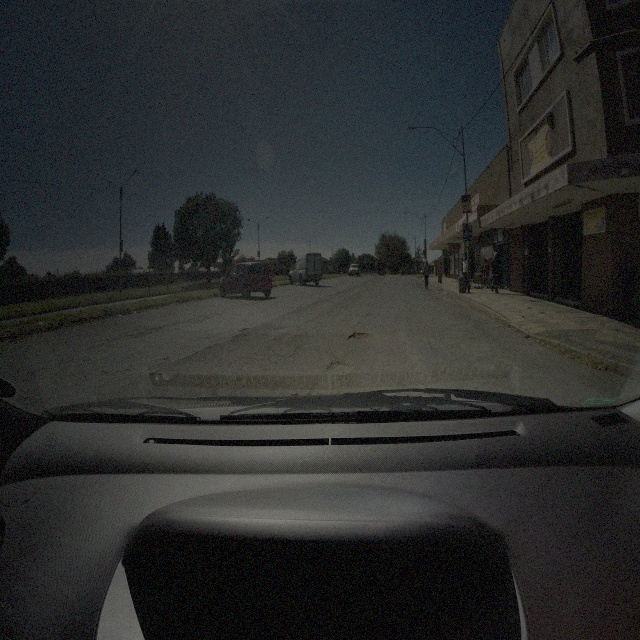pothole: (348, 330, 370, 342), (326, 356, 342, 371), (436, 295, 447, 304), (240, 326, 250, 334), (468, 312, 476, 321)
